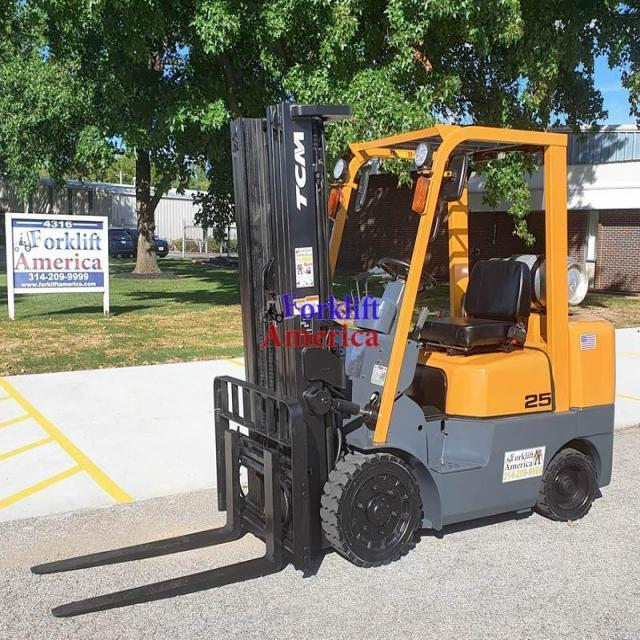forklift: (189, 91, 622, 580)
